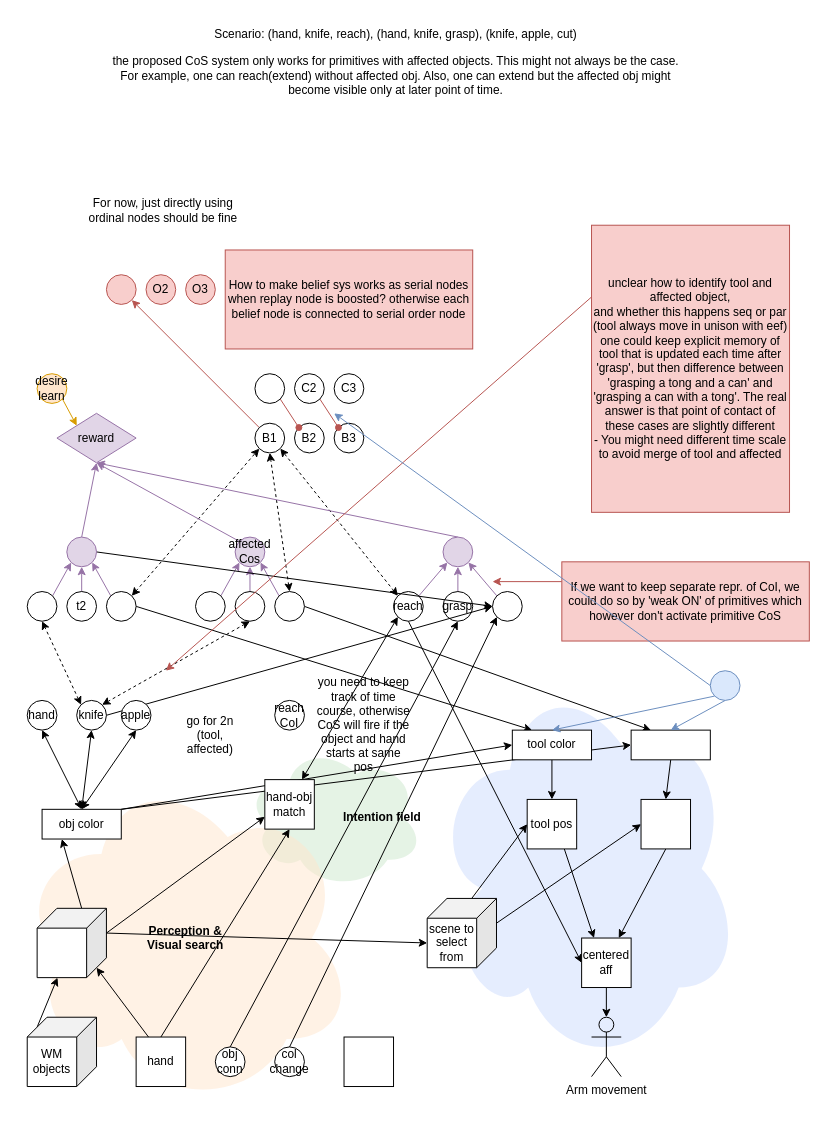
The diagram is 827 pixels wide and 1123 high, and some of its shapes have lost their labels. Each missing label, with the box of its shape:
a2: (234, 591, 265, 621)
Action generation: (433, 670, 740, 1066)
aff color: (630, 729, 710, 760)
aff pos: (640, 798, 691, 849)
affected 1: (195, 591, 225, 621)
an: (274, 591, 304, 621)
C1: (254, 373, 285, 403)
cut: (492, 591, 522, 621)
desire replay: (709, 670, 740, 700)
EEF proprio: (343, 1036, 394, 1087)
O1: (105, 274, 136, 304)
primitive CoS: (442, 536, 473, 567)
select objects: (36, 907, 106, 978)
tn: (105, 591, 136, 621)
tool 1: (26, 591, 57, 621)
tool CoS: (66, 536, 97, 567)
